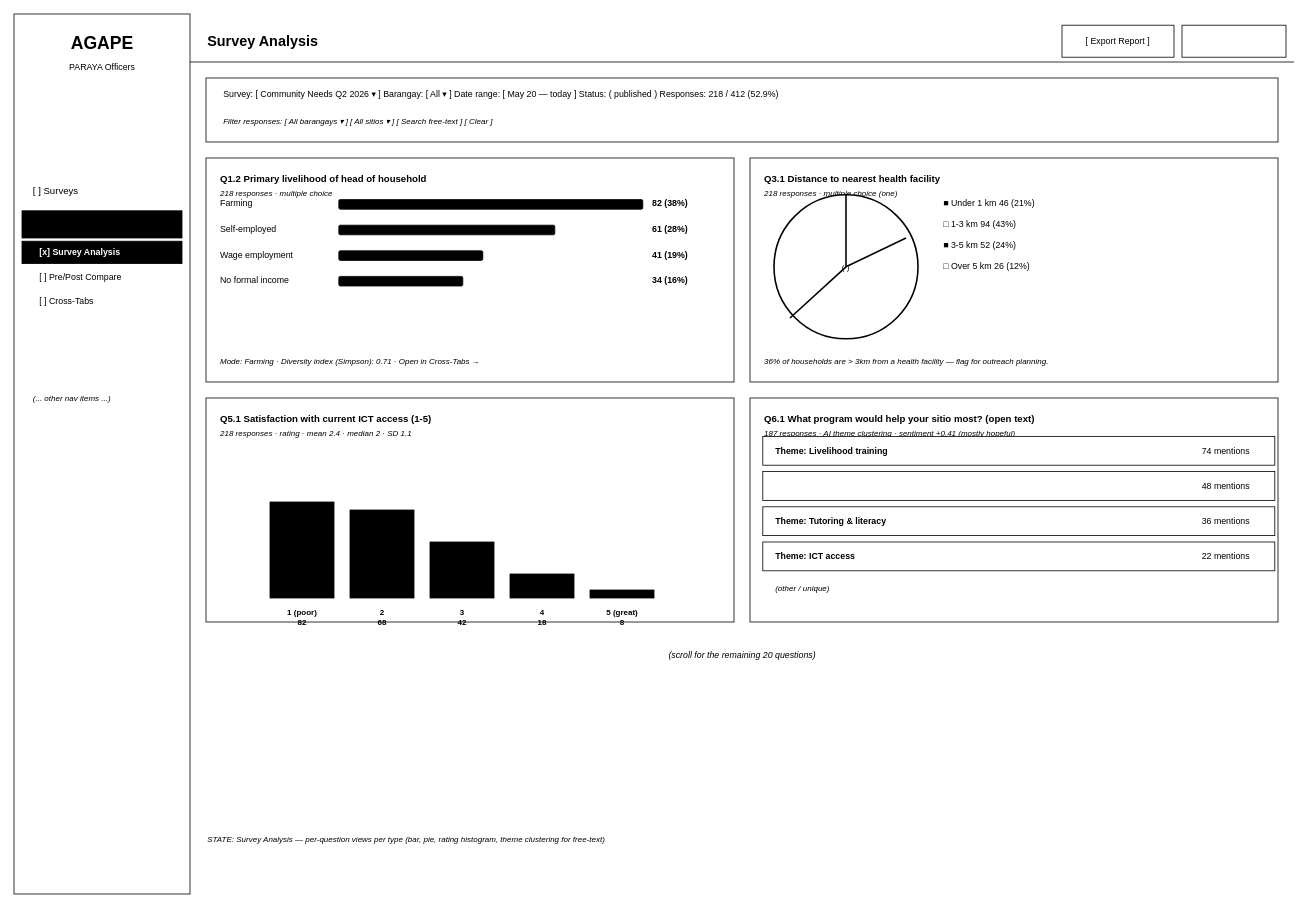
Some shapes in this 1309 by 908 pixel diagram are drawn without their labels. The box of each missing label's shape, as (x1, y1, x2, y2) in pixels:
[ Open in Cross-Tabs ]: (1181, 24, 1286, 57)
[x] Analytics ▾: (21, 210, 182, 238)
Theme: Free clinic / vaccination: (762, 471, 1275, 500)
